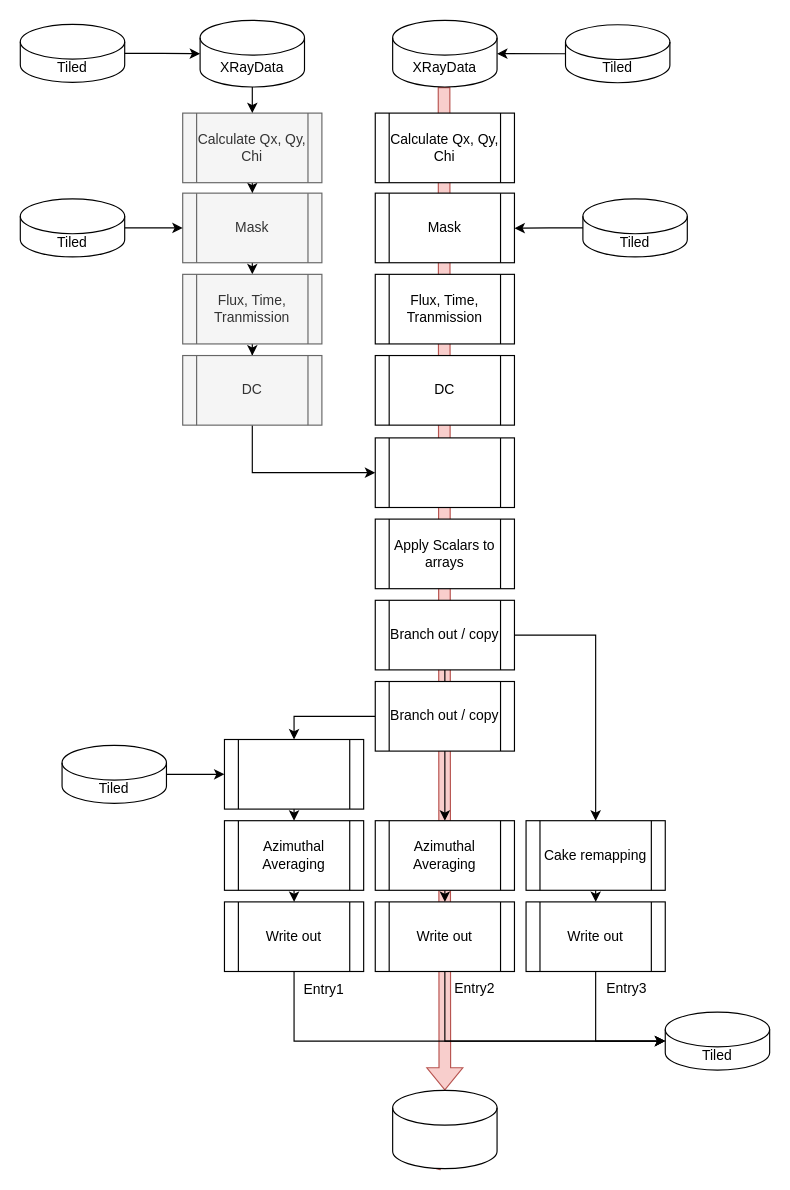
This 790x1190 diagram has some shape labels left out. The shapes that lost their labels are listed below. From the top down, each one's centre as x and y in pixels, then its label:
(x=444, y=472): Background subtraction (match processed)
(x=293, y=773): Background subtraction (combine branches)
(x=444, y=1129): Modified XRayData
